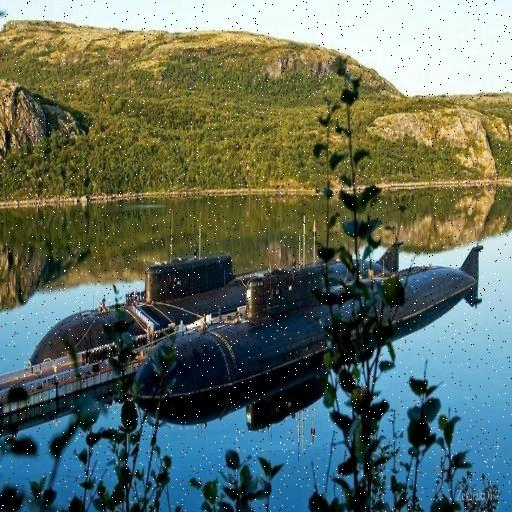submarine: (127, 242, 499, 415), (25, 195, 321, 372)
